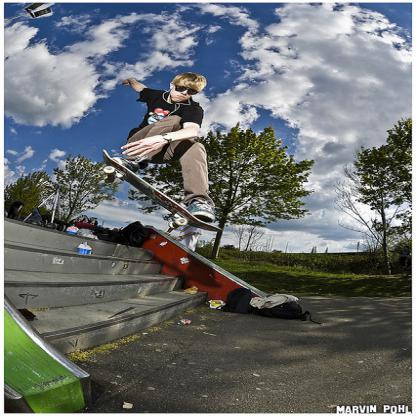backpack: (253, 301, 309, 320), (221, 288, 254, 314)
